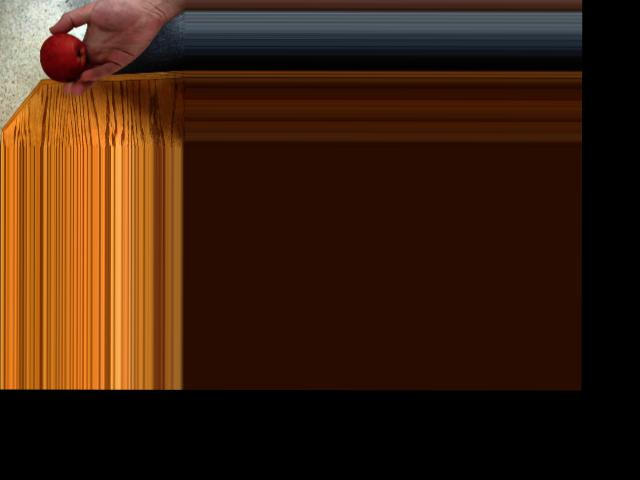apple: (36, 35, 86, 83)
